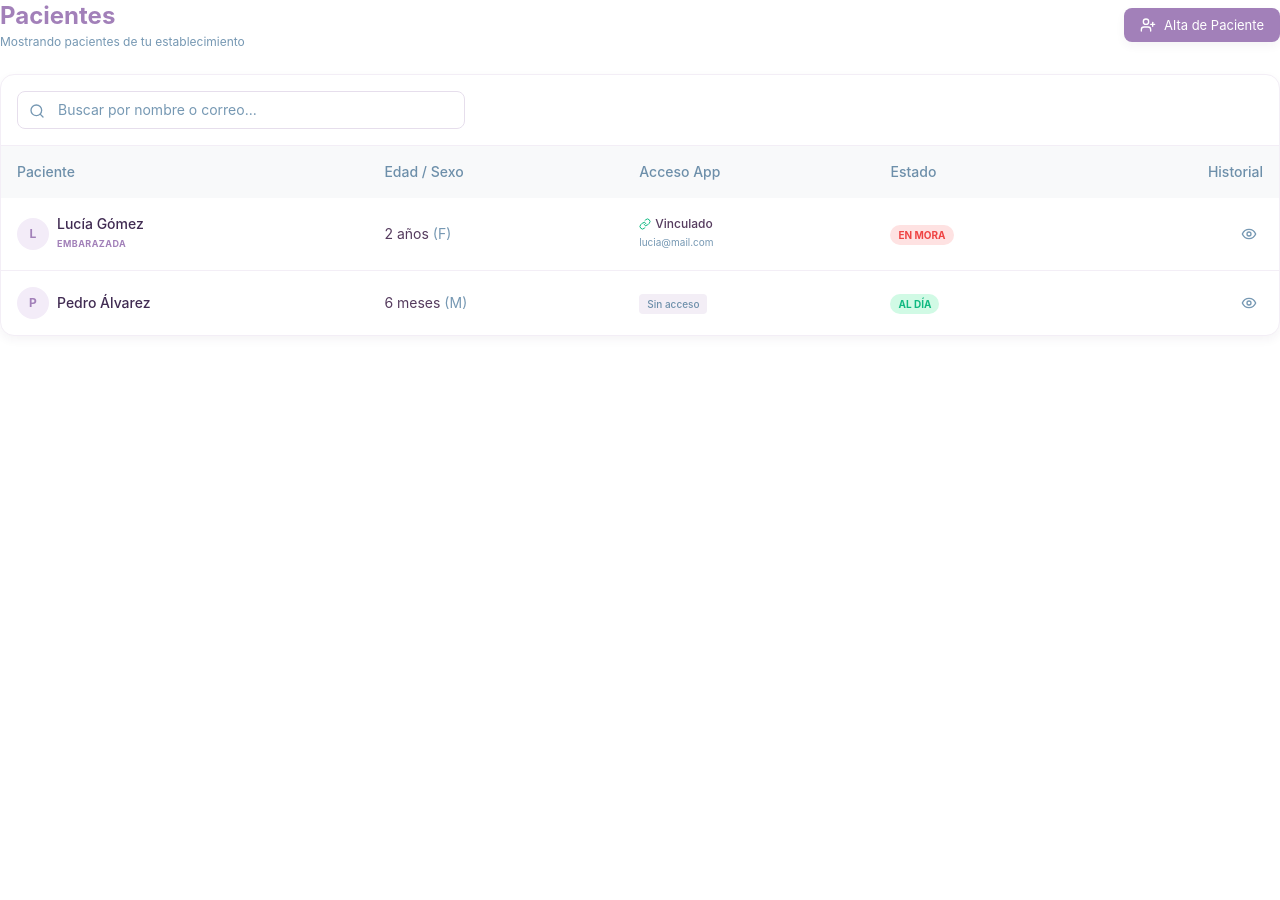
Test: PatientsView – historial de vacunación › muestra las dosis aplicadas del paciente
Click the button titled "Ver historial" in the row of "Lucía Gómez". click: click(1249, 234)
box: [1235,220,1263,248]
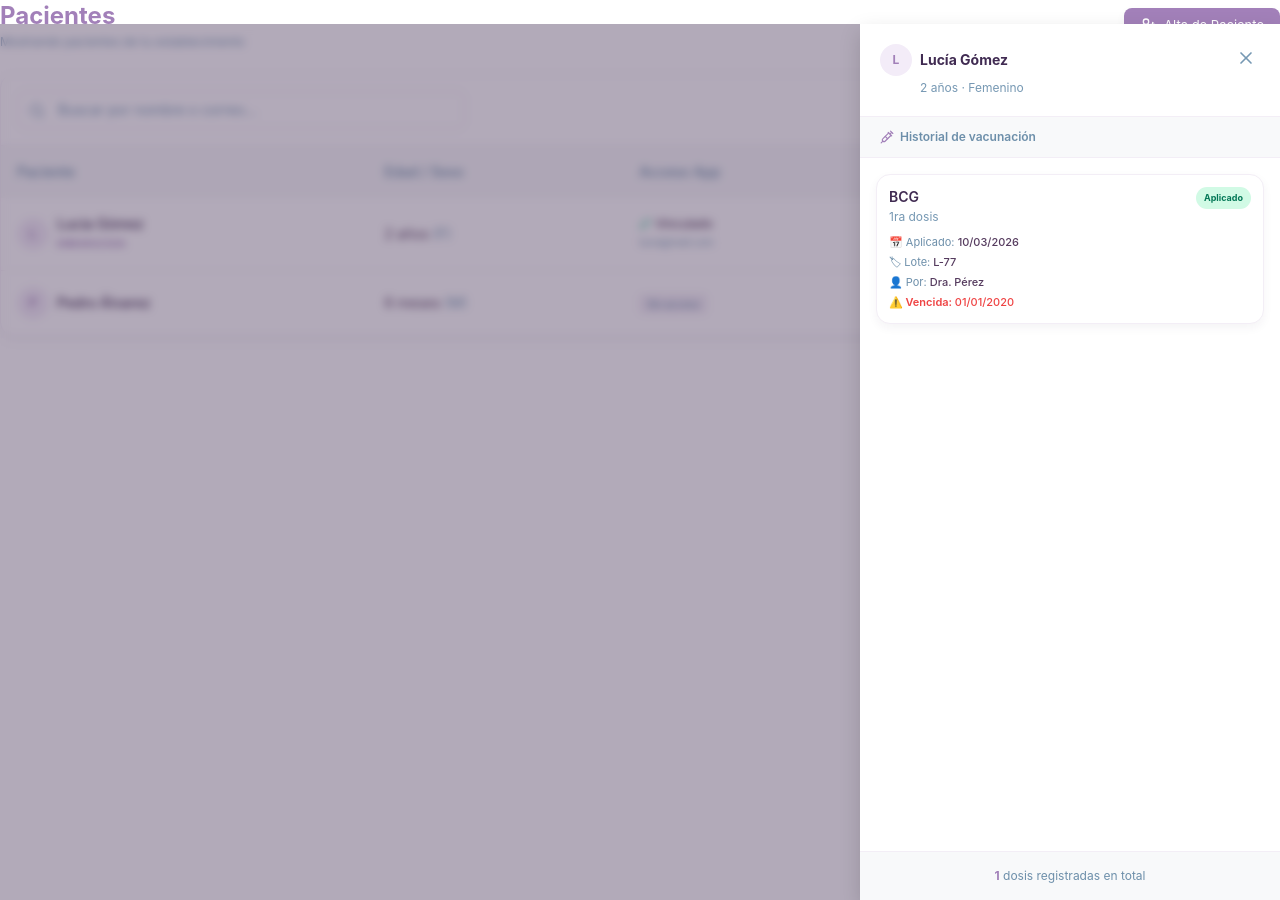
Expected: the text "Historial de vacunación" is shown, [880,129,1036,144]
Expected: the text "BCG" is shown, [889,188,919,205]
Expected: the text "1ra dosis" is shown, [889,209,939,224]
